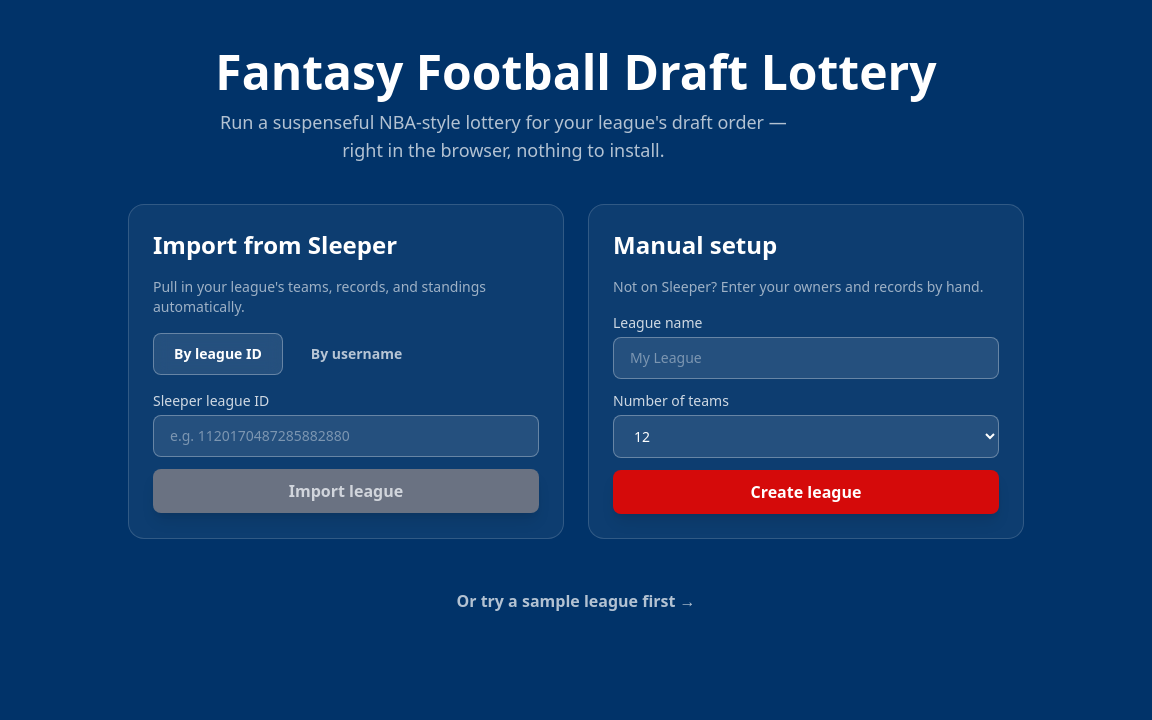
Test: SetupScreen › invalid league id shows a friendly error
Type "12345678" into the field labelled "Sleeper league ID" at [346, 436], box [153,415,539,457]
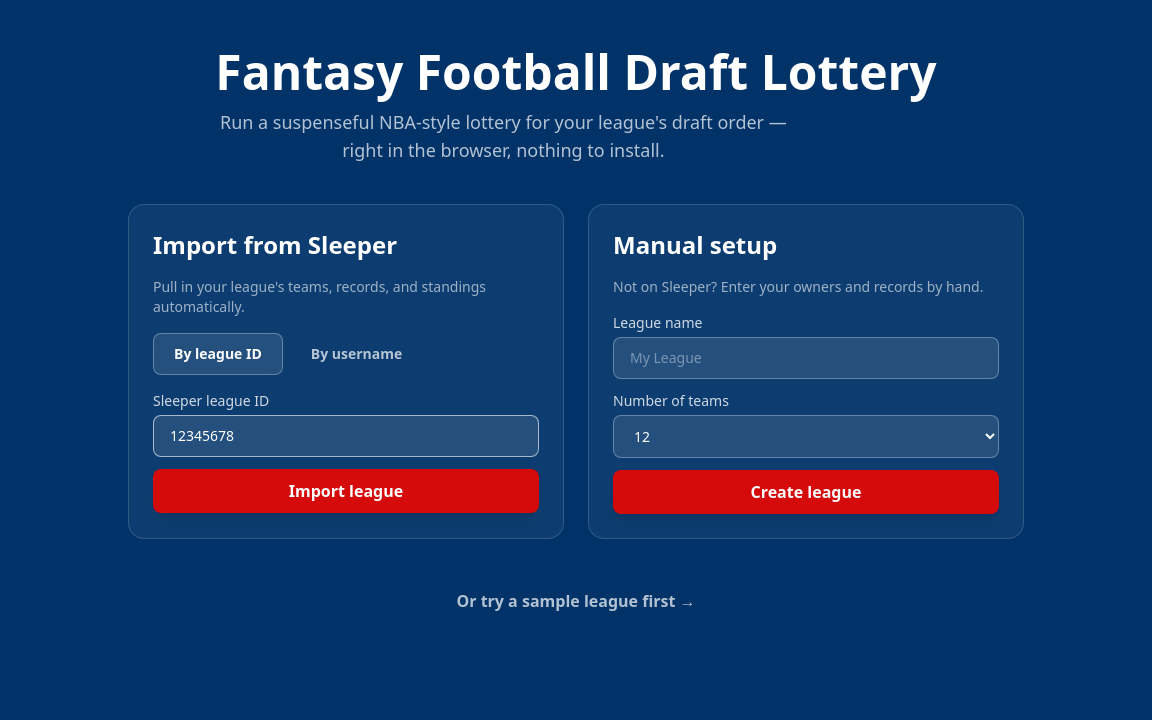
Click the button "Import league" at [346, 491], box [153,469,539,513]
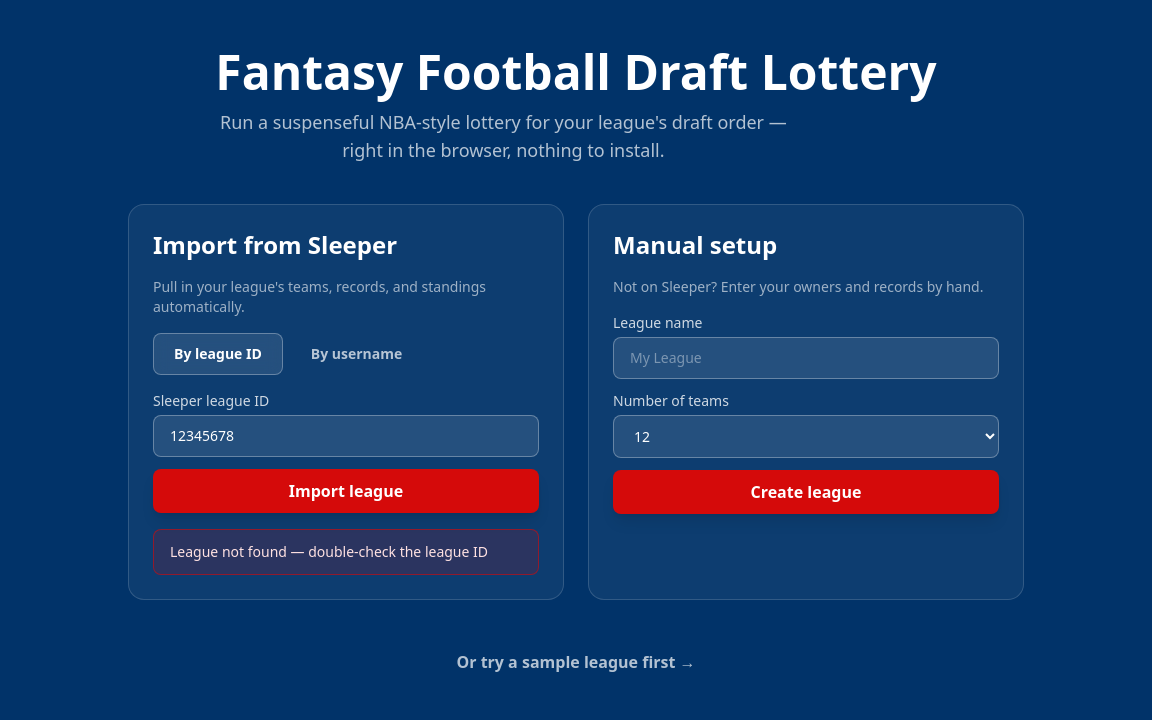
Expected: the message shows "League not found", [170,542,488,561]
